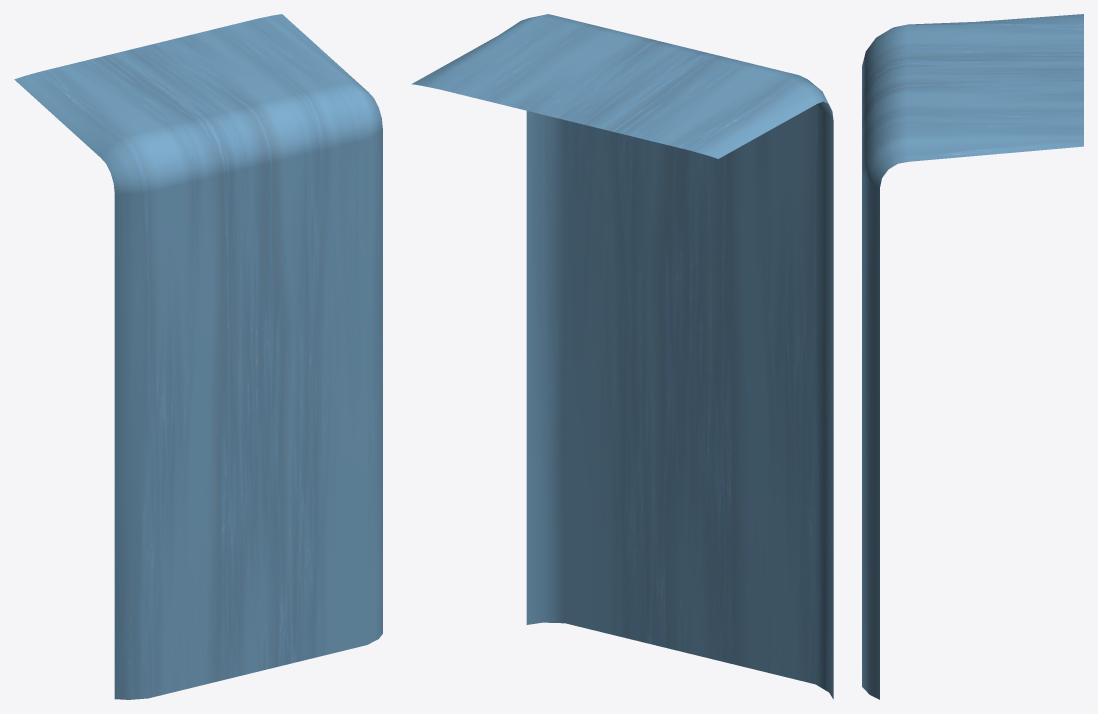
File: Waterfall2.fbx
3 views of the same model, side by side, from view 1: azimuth 30°, elevation 25°; view 2: azimuth 150°, elevation 25°; view 3: azimuth 270°, elevation 25° (orthographic). The views are drawn at different scales.
Parts seen in each view (by area): view 1: pCube69; view 2: pCube69; view 3: pCube69.
Boxes of the visible parts, bbox=[...] form: pCube69: bbox=[14, 14, 382, 699]; pCube69: bbox=[411, 14, 833, 699]; pCube69: bbox=[862, 14, 1083, 699].
Size of the model in its own units: 160 by 312 by 113.
